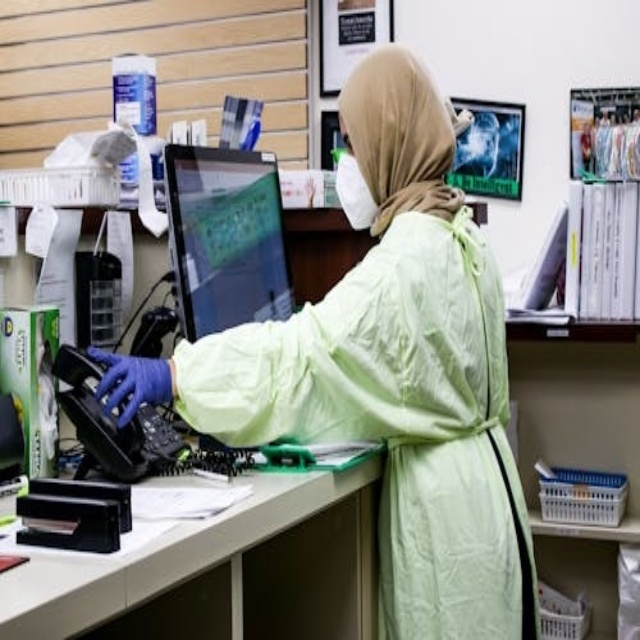Guantes: (87, 346, 174, 422)
Mascara: (335, 150, 380, 231)
